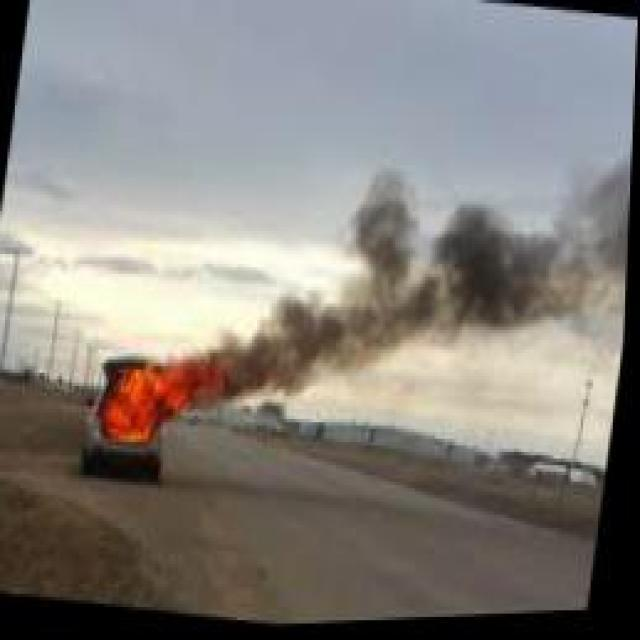Fire: (76, 326, 248, 478)
Smoke: (225, 86, 632, 458)
